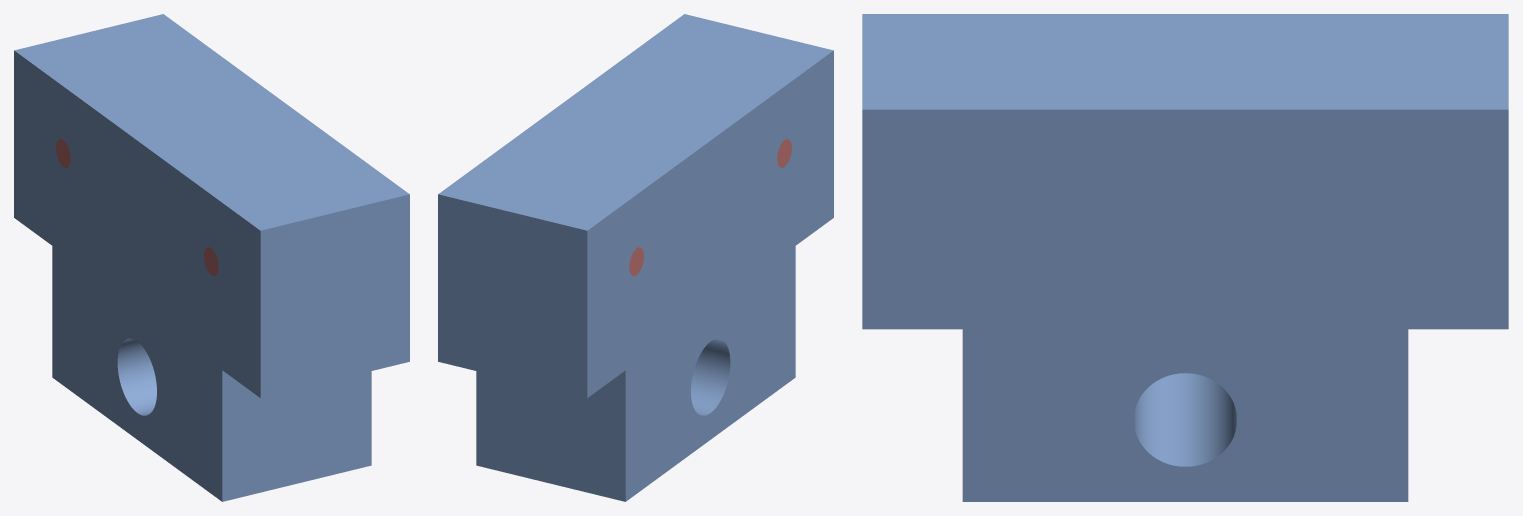
Rendered from step_11.glb.
3 renders of one model, left to right at view 1: azimuth 30°, elevation 25°; view 2: azimuth 150°, elevation 25°; view 3: azimuth 270°, elevation 25°, orthographic. The views are drawn at different scales.
Visible parts, largest first — view 1: part__moving jaw, removed__moving jaw; view 2: part__moving jaw, removed__moving jaw; view 3: part__moving jaw.
Boxes of the visible parts, left/top/right/bottom form: part__moving jaw: left=14, top=14, right=409, bottom=501; removed__moving jaw: left=56, top=139, right=218, bottom=275; part__moving jaw: left=438, top=14, right=833, bottom=501; removed__moving jaw: left=629, top=139, right=791, bottom=275; part__moving jaw: left=862, top=14, right=1508, bottom=501.
Bounding box in the file's own units: 35 × 67 × 100.
